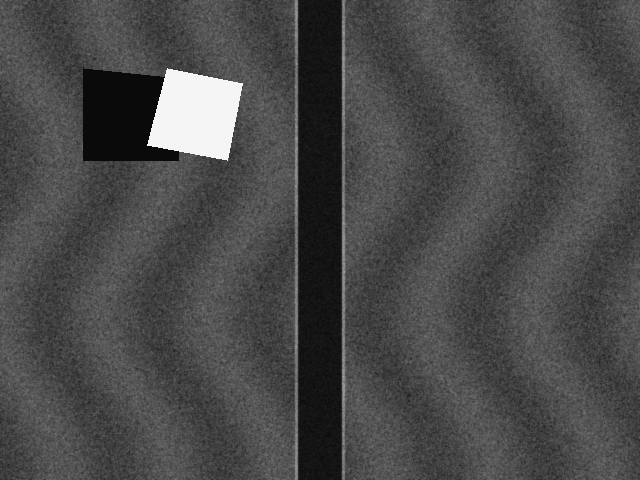Unknown Anomaly: (147, 68, 242, 160)
